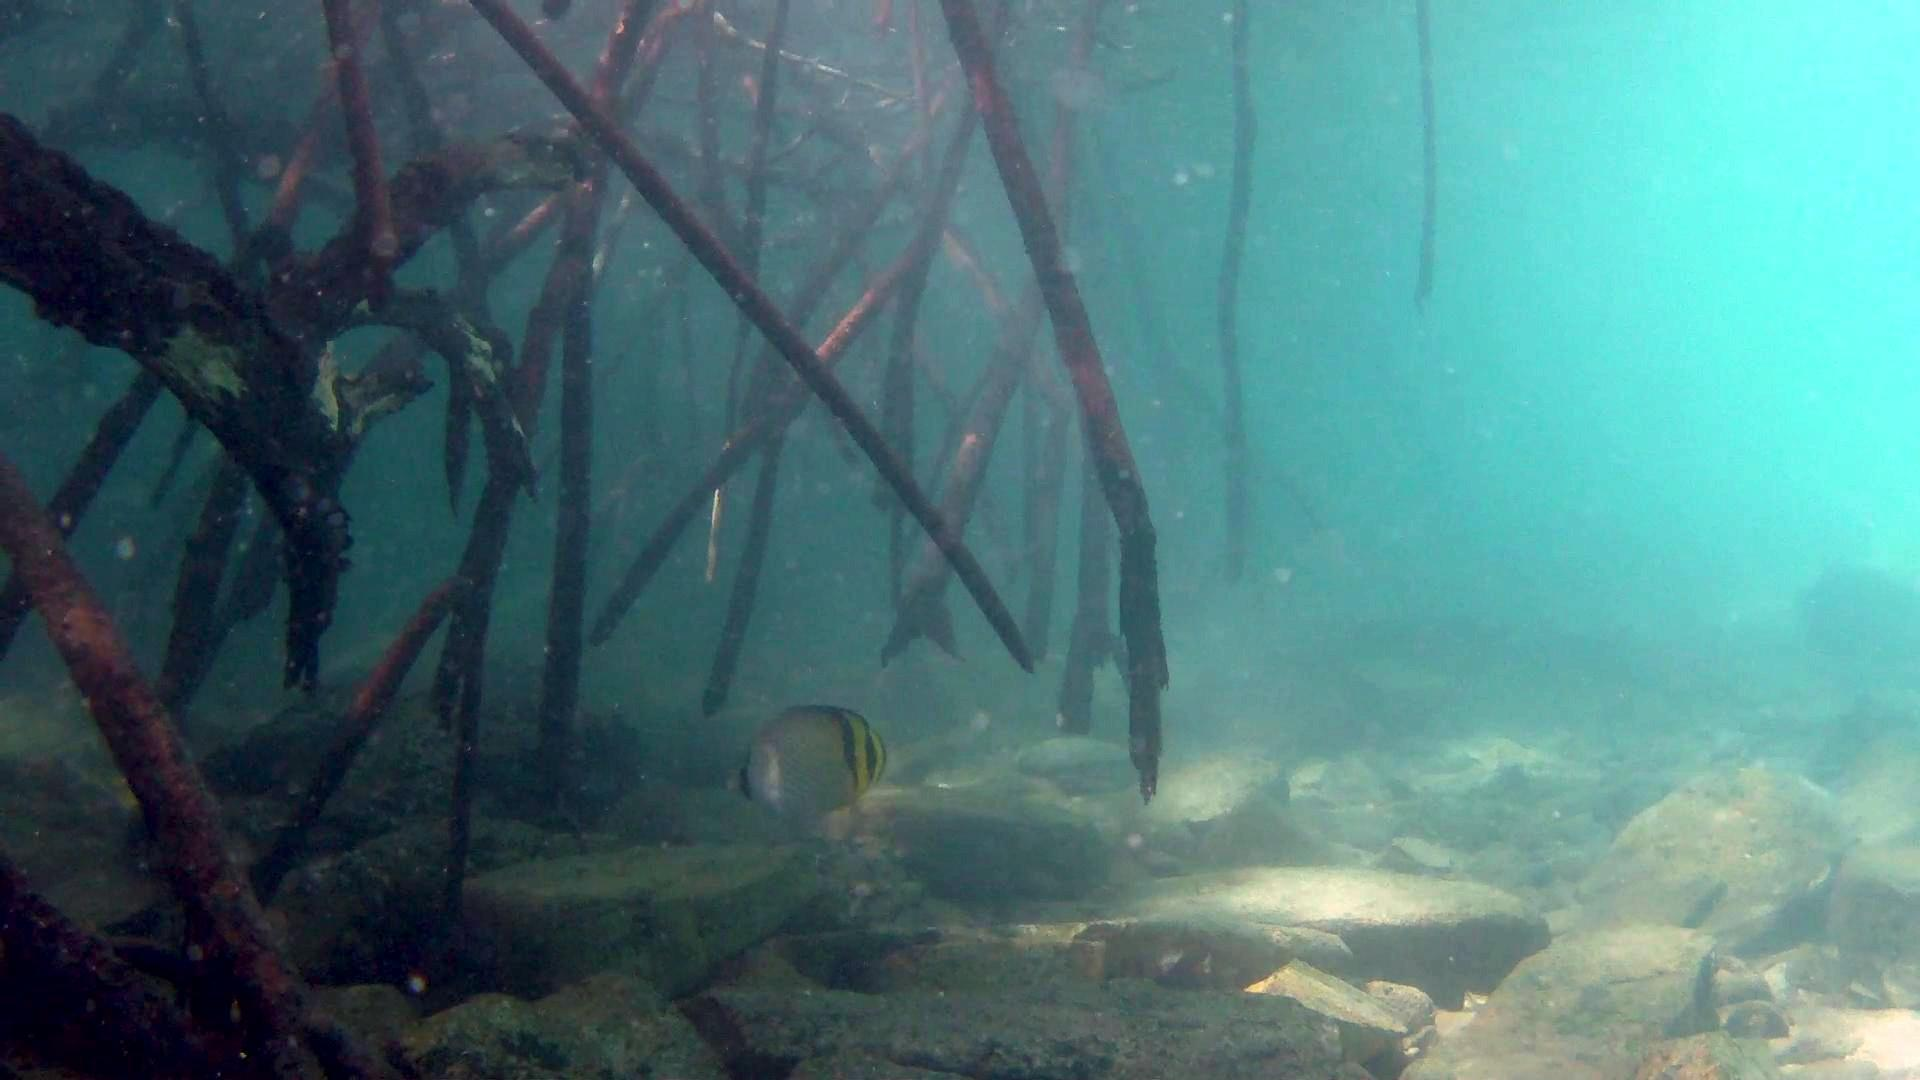chaetodon vagabundus: (725, 702, 889, 822)
